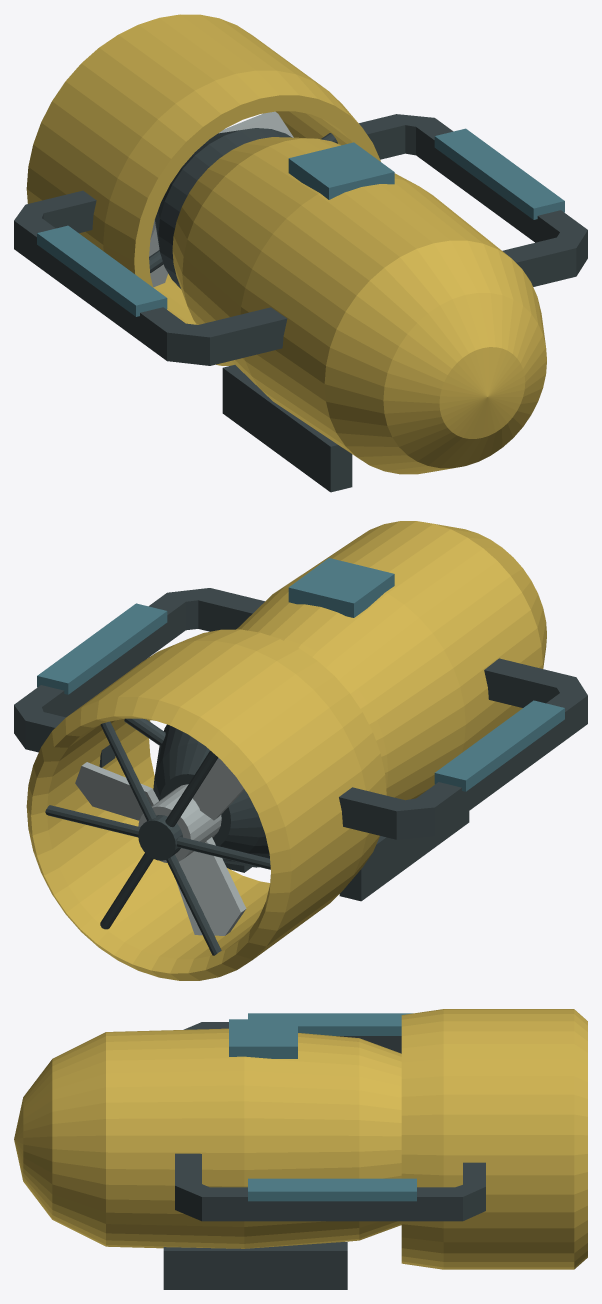
3 views of the same model, one above another, from view 1: azimuth 30°, elevation 25°; view 2: azimuth 150°, elevation 25°; view 3: azimuth 270°, elevation 25° (orthographic). The views are drawn at different scales.
Visible parts, largest first — view 1: WholeClosedRoundedForebody, WholeOpenTailShroud, WholeLeftBridgeHandle, WholeRightBridgeHandle, WholeLeftRestingRib, WholeRightGripPad, WholeLeftGripPad, WholeTopControlPad, WholeNarrowRearHousing, WholeBroadPitchedBlade0; view 2: WholeOpenTailShroud, WholeClosedRoundedForebody, WholeLeftBridgeHandle, WholeRightBridgeHandle, WholeNarrowRearHousing, WholeRightGripPad, WholeLeftGripPad, WholeTopControlPad, WholeBroadPitchedBlade2, WholeLeftRestingRib, WholeBroadPitchedBlade0, WholeTailBluntHub (+8 smaller); view 3: WholeClosedRoundedForebody, WholeOpenTailShroud, WholeRightBridgeHandle, WholeRightRestingRib, WholeRightGripPad, WholeLeftGripPad, WholeTopControlPad, WholeLeftBridgeHandle.
Part boxes in pixels (<box>): WholeClosedRoundedForebody: <box>172,137,546,474</box>; WholeOpenTailShroud: <box>26,14,380,365</box>; WholeLeftBridgeHandle: <box>14,190,287,365</box>; WholeRightBridgeHandle: <box>359,114,587,286</box>; WholeLeftRestingRib: <box>222,365,352,492</box>; WholeRightGripPad: <box>434,128,564,219</box>; WholeLeftGripPad: <box>37,225,167,316</box>; WholeTopControlPad: <box>288,142,394,199</box>; WholeNarrowRearHousing: <box>155,128,291,288</box>; WholeBroadPitchedBlade0: <box>219,111,293,137</box>; WholeOpenTailShroud: <box>26,629,386,980</box>; WholeClosedRoundedForebody: <box>237,521,546,800</box>; WholeLeftBridgeHandle: <box>339,658,587,839</box>; WholeRightBridgeHandle: <box>14,588,264,767</box>; WholeNarrowRearHousing: <box>153,724,269,867</box>; WholeRightGripPad: <box>37,603,167,694</box>; WholeLeftGripPad: <box>434,700,564,791</box>; WholeTopControlPad: <box>288,558,394,617</box>; WholeBroadPitchedBlade2: <box>176,837,246,935</box>; WholeLeftRestingRib: <box>339,811,469,901</box>; WholeBroadPitchedBlade0: <box>75,762,158,820</box>; WholeTailBluntHub: <box>138,784,221,862</box>; WholeClosedRoundedForebody: <box>14,1028,401,1248</box>; WholeOpenTailShroud: <box>401,1009,587,1269</box>; WholeRightBridgeHandle: <box>175,1153,485,1221</box>; WholeRightRestingRib: <box>163,1242,347,1289</box>; WholeRightGripPad: <box>248,1178,416,1201</box>; WholeLeftGripPad: <box>248,1013,412,1035</box>; WholeTopControlPad: <box>229,1019,297,1058</box>; WholeLeftBridgeHandle: <box>183,1022,401,1053</box>.
Size of the model in its own units: 0.55 by 0.345 by 0.748.
